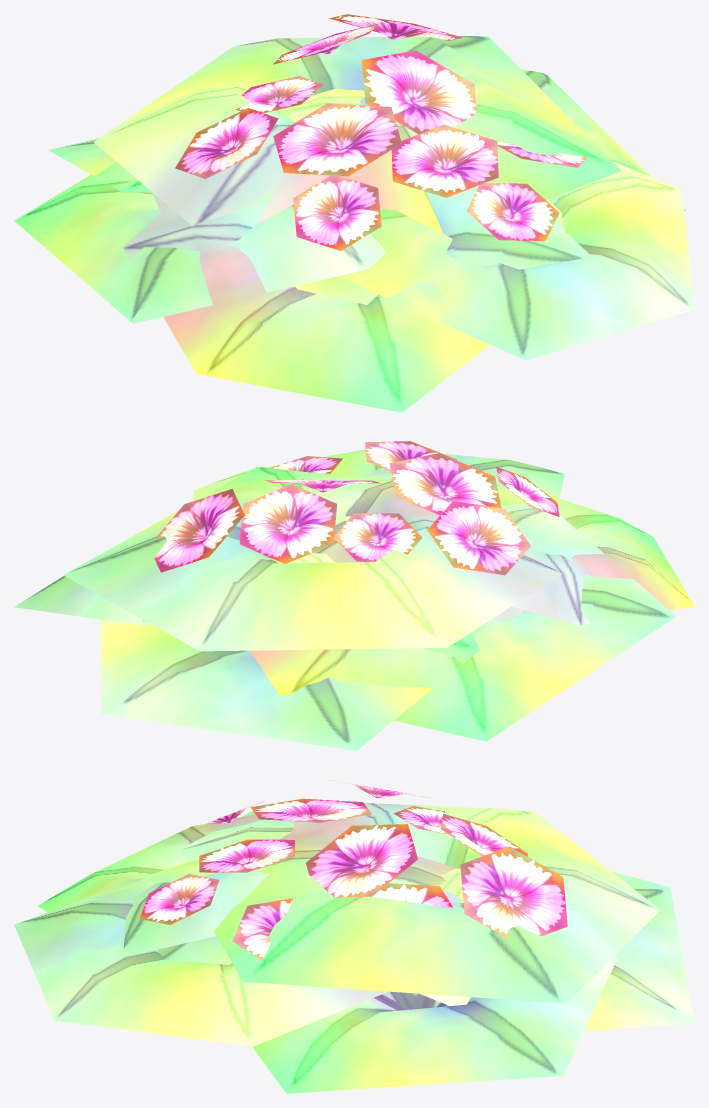
File: dianthus_small_SM.fbx
3 renders of one model, top to bottom at view 1: azimuth 30°, elevation 25°; view 2: azimuth 150°, elevation 25°; view 3: azimuth 270°, elevation 25°, orthographic. The views are drawn at different scales.
Visible parts, largest first — view 1: dianthus_small_SM_LOD0; view 2: dianthus_small_SM_LOD0; view 3: dianthus_small_SM_LOD0.
Part boxes in pixels (<box>): dianthus_small_SM_LOD0: <box>14,14,694,412</box>; dianthus_small_SM_LOD0: <box>14,441,694,750</box>; dianthus_small_SM_LOD0: <box>14,780,694,1093</box>.
Bounding box in the file's own units: 124 × 137 × 35.81.
2 materials, 2 textured.
